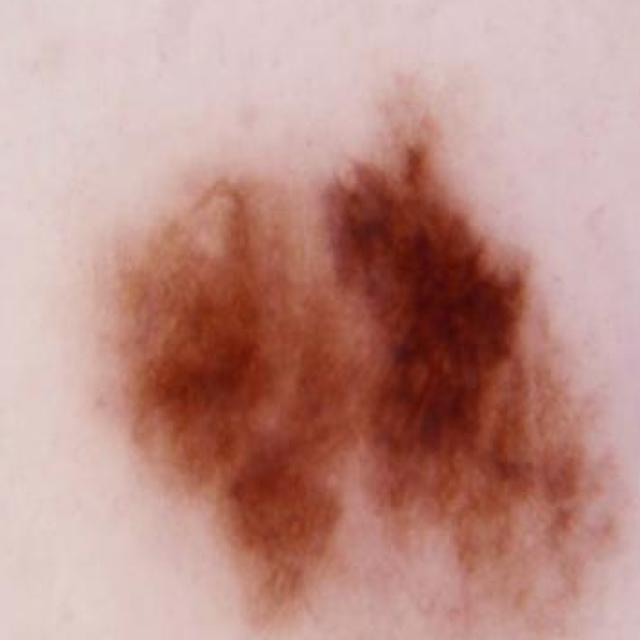NV: (22, 5, 640, 640)
